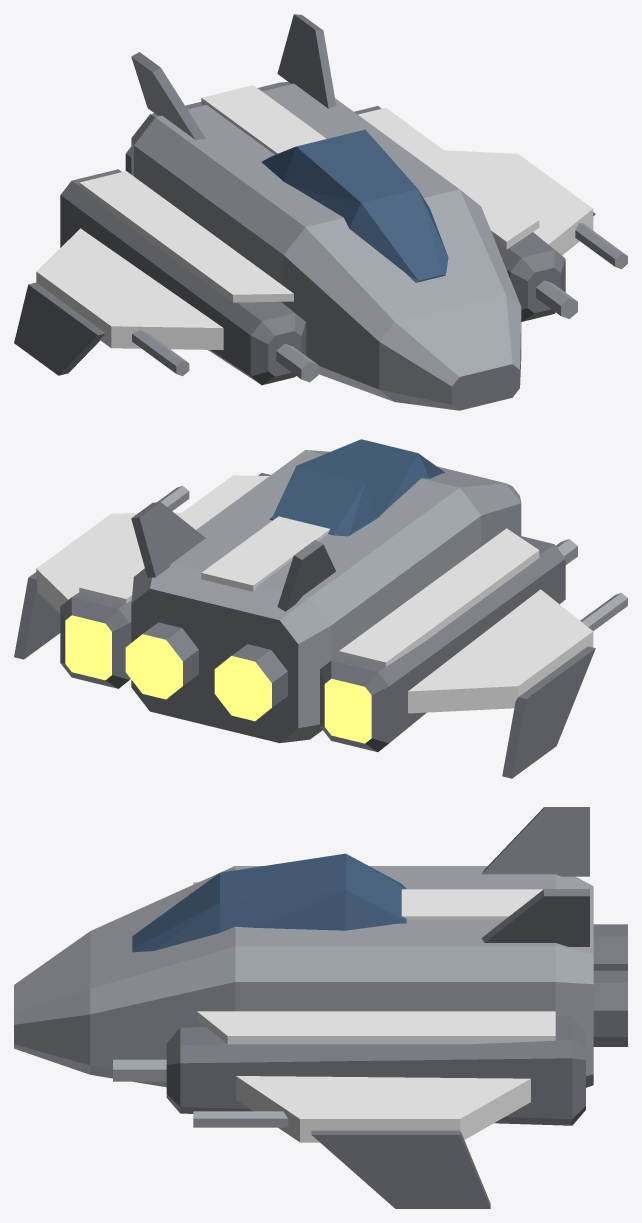
Rendered from anvil.glb.
3 views of the same model, one above another, from view 1: azimuth 30°, elevation 25°; view 2: azimuth 150°, elevation 25°; view 3: azimuth 270°, elevation 25° (orthographic). The views are drawn at different scales.
Visible parts, largest first — view 1: hull, debris_wing_right, debris_canopy, debris_wing_left; view 2: hull, debris_wing_right, debris_canopy, debris_wing_left; view 3: hull, debris_wing_left, debris_canopy.
Part boxes in pixels (<box>): hull: <box>60,14,577,410</box>; debris_wing_right: <box>14,228,223,376</box>; debris_canopy: <box>261,129,448,282</box>; debris_wing_left: <box>444,150,627,269</box>; hull: <box>60,450,577,751</box>; debris_wing_right: <box>408,589,627,778</box>; debris_canopy: <box>269,439,444,536</box>; debris_wing_left: <box>14,485,189,659</box>; hull: <box>14,807,627,1125</box>; debris_wing_left: <box>193,1076,530,1208</box>; debris_canopy: <box>132,853,406,952</box>.
Size of the model in its own units: 8.06 by 3.33 by 8.05.
